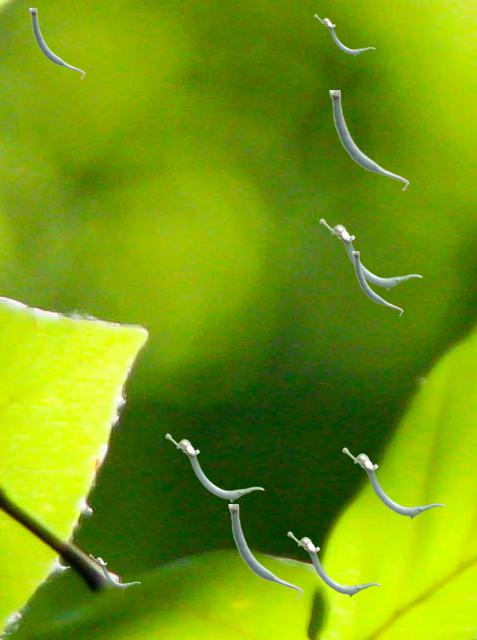french_bean: (329, 90, 408, 190), (319, 218, 421, 289), (342, 447, 444, 518), (228, 504, 302, 598), (165, 433, 263, 501), (287, 531, 380, 596), (29, 8, 84, 78), (352, 251, 402, 315), (314, 14, 374, 55), (89, 554, 139, 588)
